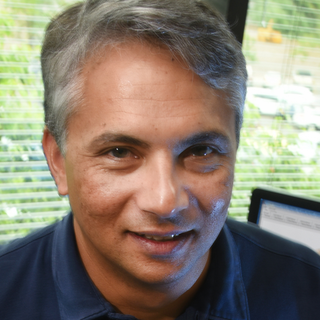eye: (90, 141, 145, 169), (174, 142, 224, 167)
